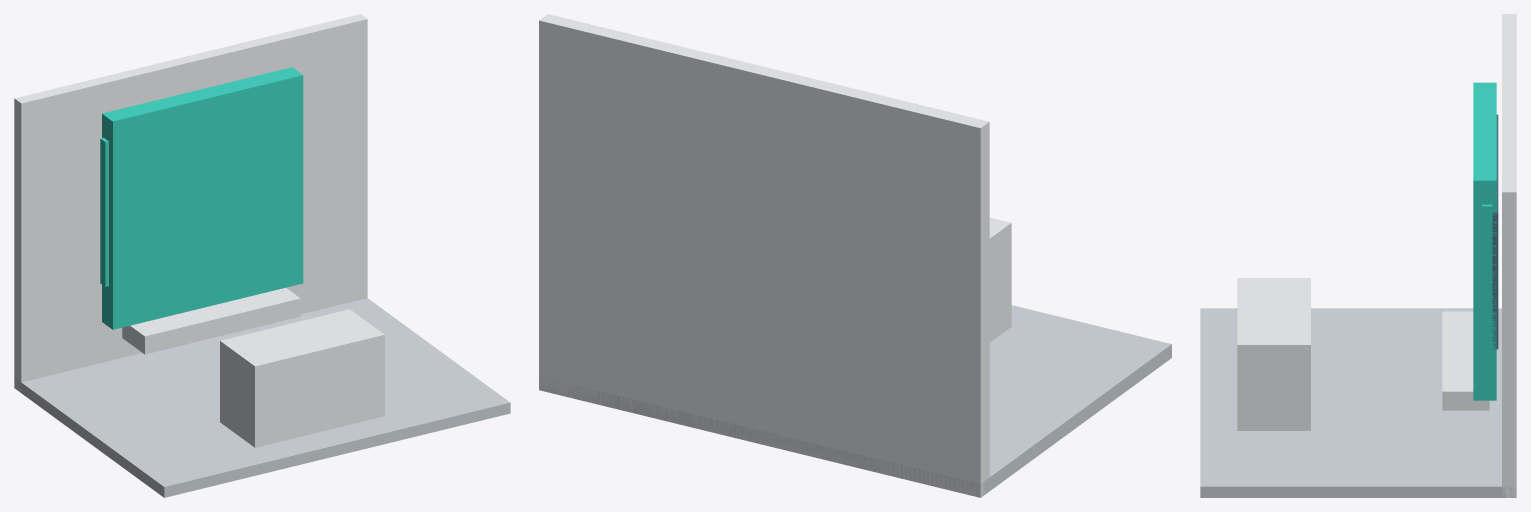
The picture shows the model from 3 angles, left to right: view 1: azimuth 30°, elevation 25°; view 2: azimuth 150°, elevation 25°; view 3: azimuth 270°, elevation 25°; orthographic projection. The views are drawn at different scales.
Visible parts, largest first — view 1: Exhibition Booth Concept; view 2: Exhibition Booth Concept; view 3: Exhibition Booth Concept.
Boxes of the visible parts, x1,y1,x2,y2 form: Exhibition Booth Concept: (14, 14, 510, 497); Exhibition Booth Concept: (539, 14, 1171, 497); Exhibition Booth Concept: (1200, 14, 1516, 497).
Size of the model in its own units: 4 by 3.2 by 3.
